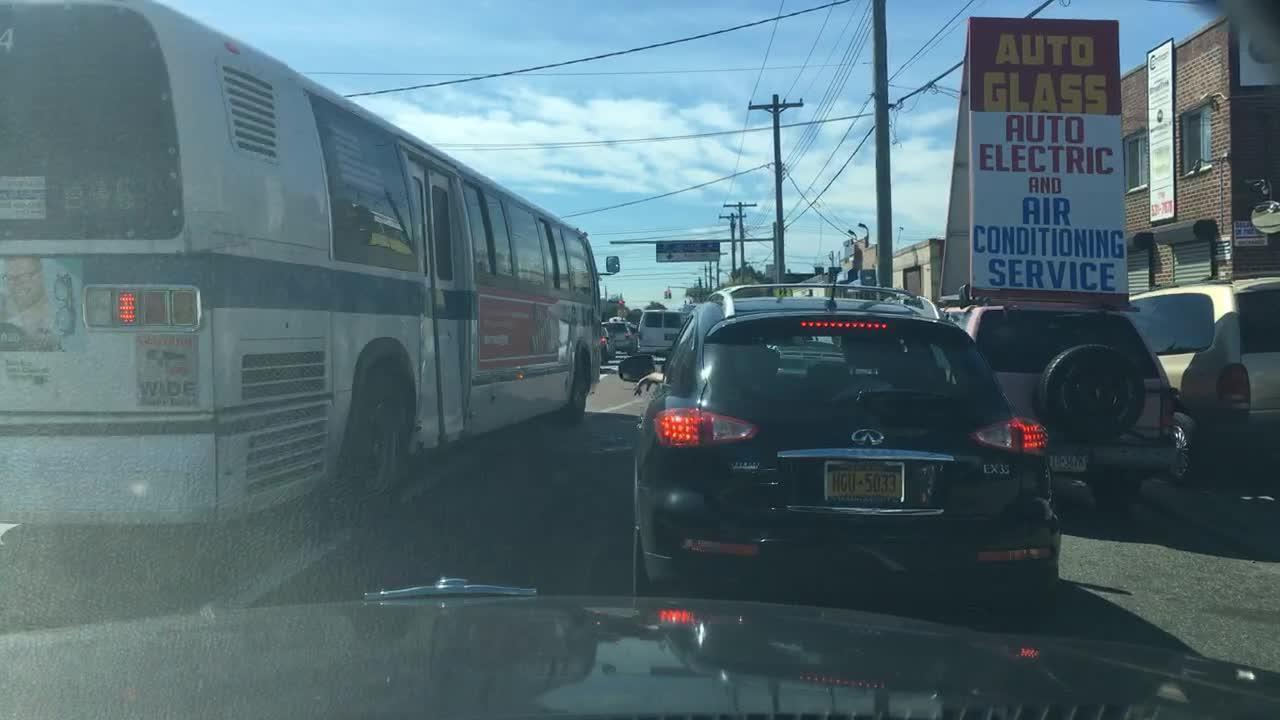Infiniti: (840, 422, 896, 455)
